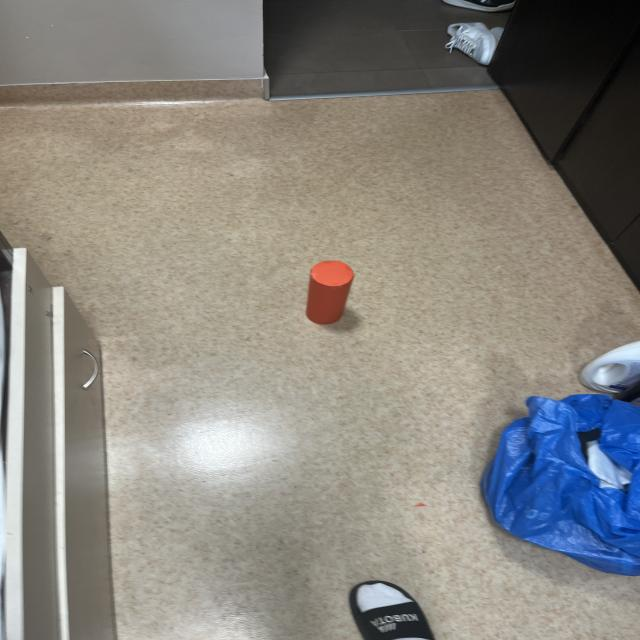przeszkoda: (306, 261, 354, 324)
